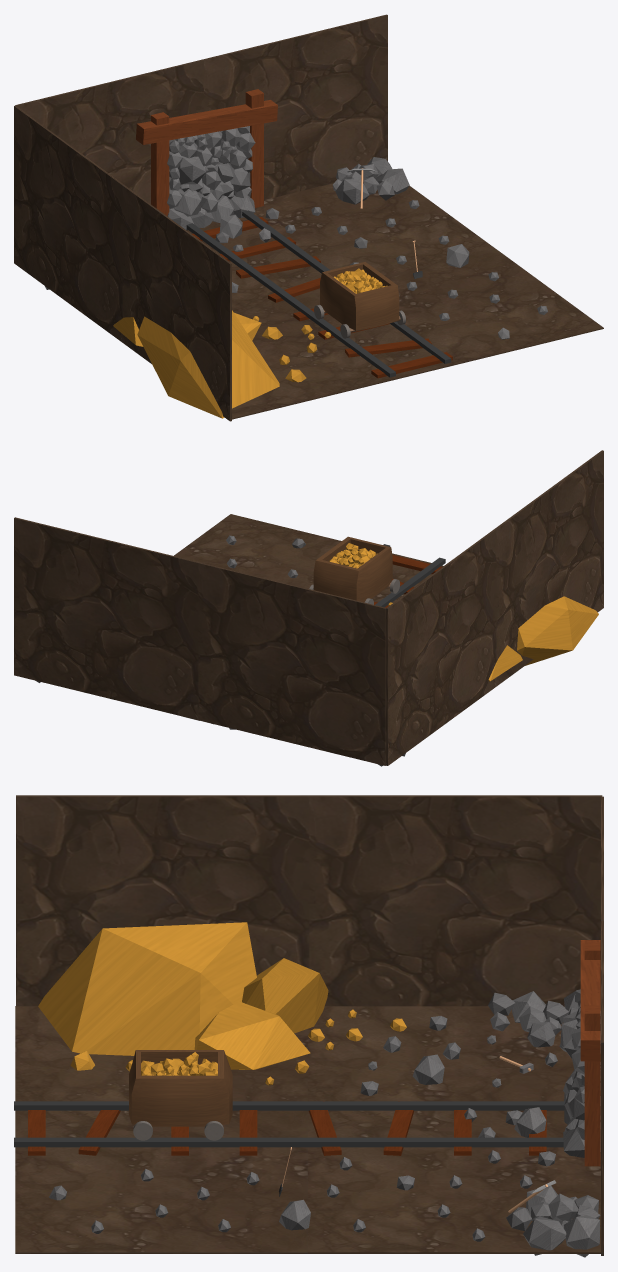
The model's file is SM_Mine_Diorama_8.fbx.
The picture shows the model from 3 angles, top to bottom: view 1: azimuth 30°, elevation 25°; view 2: azimuth 150°, elevation 25°; view 3: azimuth 270°, elevation 25°; orthographic projection. The views are drawn at different scales.
Visible parts, largest first — view 1: Wall5 (×2), Wall4 (×2), Floor3, Floor2, Floor4, Rock75, Cart1, Wooden_Door5, Floor1, Steel_Rail1, Wooden_Door6, Steel_Rail2 (+7 smaller); view 2: Wall5 (×2), Wall4 (×2), Floor3, Rock75, Cart1, Steel_Rail1, Rock77, Floor4; view 3: Wall5 (×2), Wall4, Floor3, Floor2, Floor1, Rock75, Floor4, Cart1, Steel_Rail2, Rock76, Steel_Rail1, Rock77 (+14 smaller).
Part boxes in pixels (x1,y1,x2,y2): Wall5 (×2): (14, 14, 387, 342); Wall4 (×2): (15, 59, 231, 421); Floor3: (314, 249, 603, 373); Floor2: (216, 183, 495, 293); Floor4: (231, 293, 420, 419); Rock75: (137, 310, 279, 418); Cart1: (320, 262, 399, 330); Wooden_Door5: (136, 100, 277, 144); Floor1: (187, 221, 312, 312); Steel_Rail1: (186, 223, 395, 377); Wooden_Door6: (151, 112, 169, 215); Steel_Rail2: (242, 210, 451, 363); Wall5 (×2): (14, 517, 496, 765); Wall4 (×2): (197, 450, 603, 765); Floor3: (174, 514, 413, 588); Rock75: (517, 596, 598, 665); Cart1: (313, 536, 392, 602); Steel_Rail1: (375, 557, 445, 607); Rock77: (488, 645, 522, 681); Floor4: (371, 558, 443, 602); Wall5 (×2): (308, 795, 603, 1255); Wall4: (16, 795, 308, 1006); Floor3: (15, 1131, 307, 1253); Floor2: (306, 1131, 603, 1253); Floor1: (306, 1006, 600, 1131); Rock75: (38, 922, 256, 1055); Floor4: (15, 1006, 307, 1130); Cart1: (129, 1050, 232, 1126); Steel_Rail2: (14, 1137, 563, 1147); Rock76: (194, 1001, 310, 1069); Steel_Rail1: (14, 1101, 565, 1110); Rock77: (242, 958, 328, 1033).
Bounding box in the file's own units: 3.1 × 1.33 × 3.
Materials: 15 (15 with a texture image).
